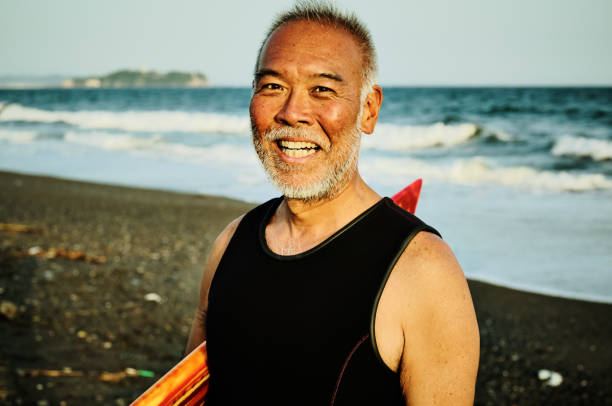person: (247, 1, 382, 201)
